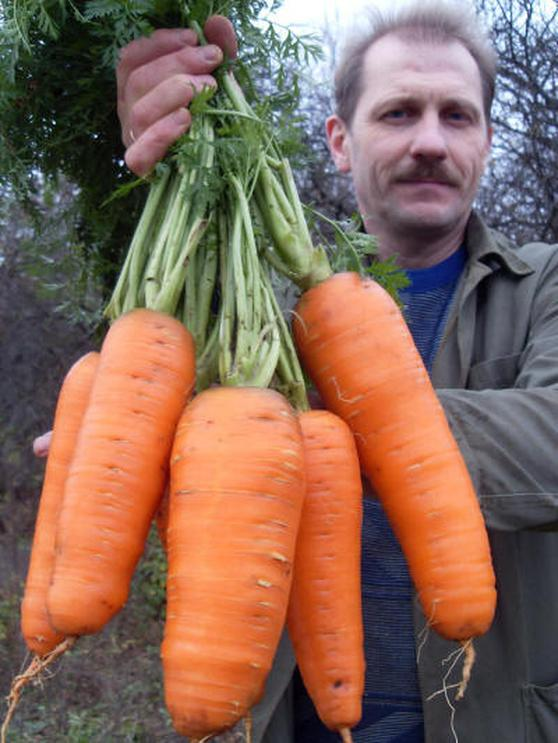carrot: (290, 261, 527, 649), (48, 310, 200, 646), (165, 380, 303, 735), (284, 402, 371, 741)
